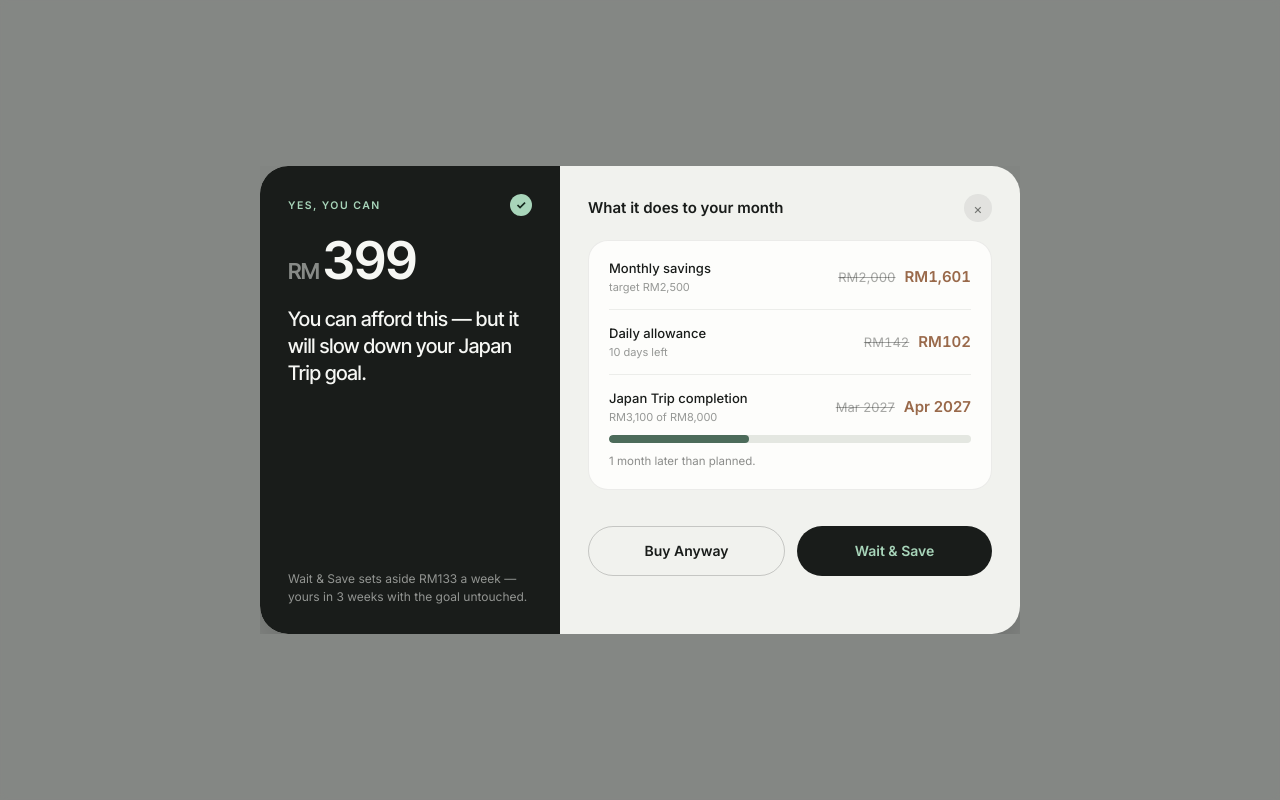
Test: AffordModal › sanitises typed input to a decimal amount
Replace the text in the field named "Amount in ringgit" with "1a2.3.4". click: (412, 261)
box: 322,232 -> 502,290
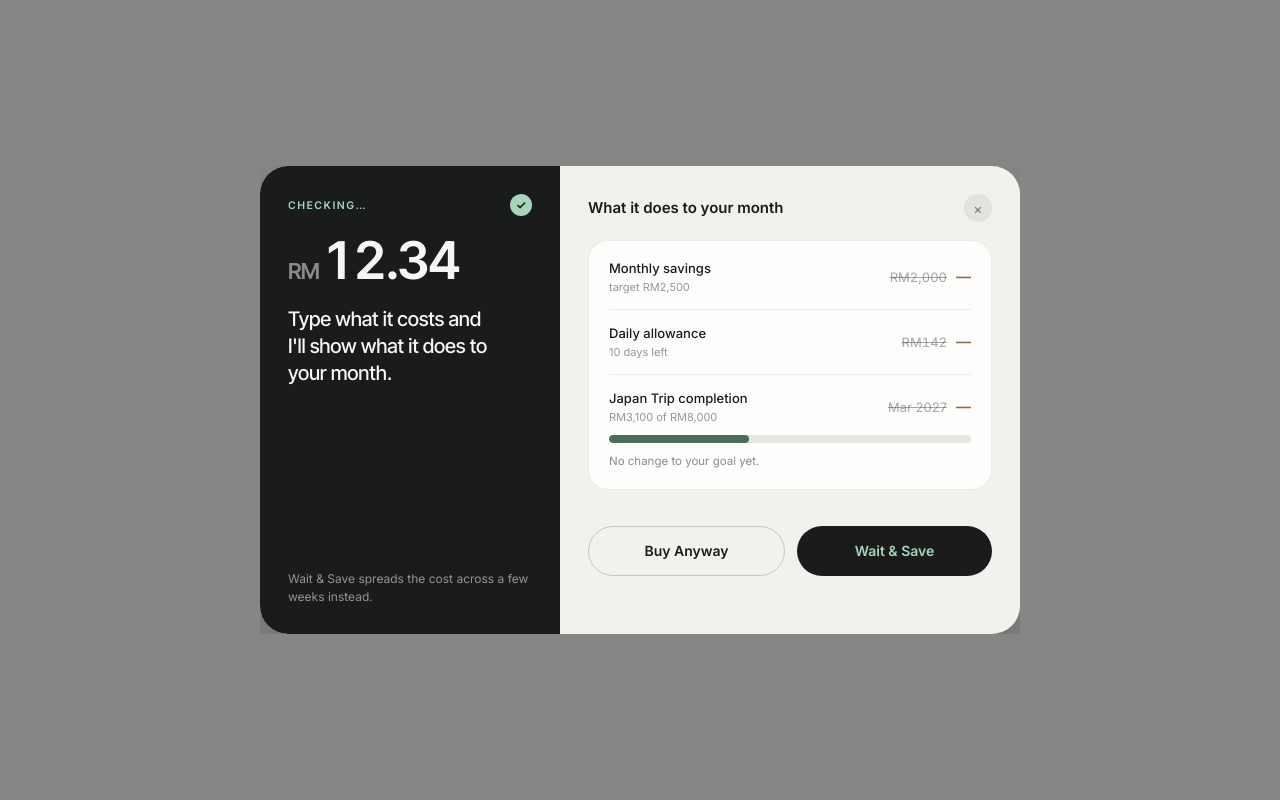
Expected: the field named "Amount in ringgit" holds "12.34", 322,232 -> 502,290
